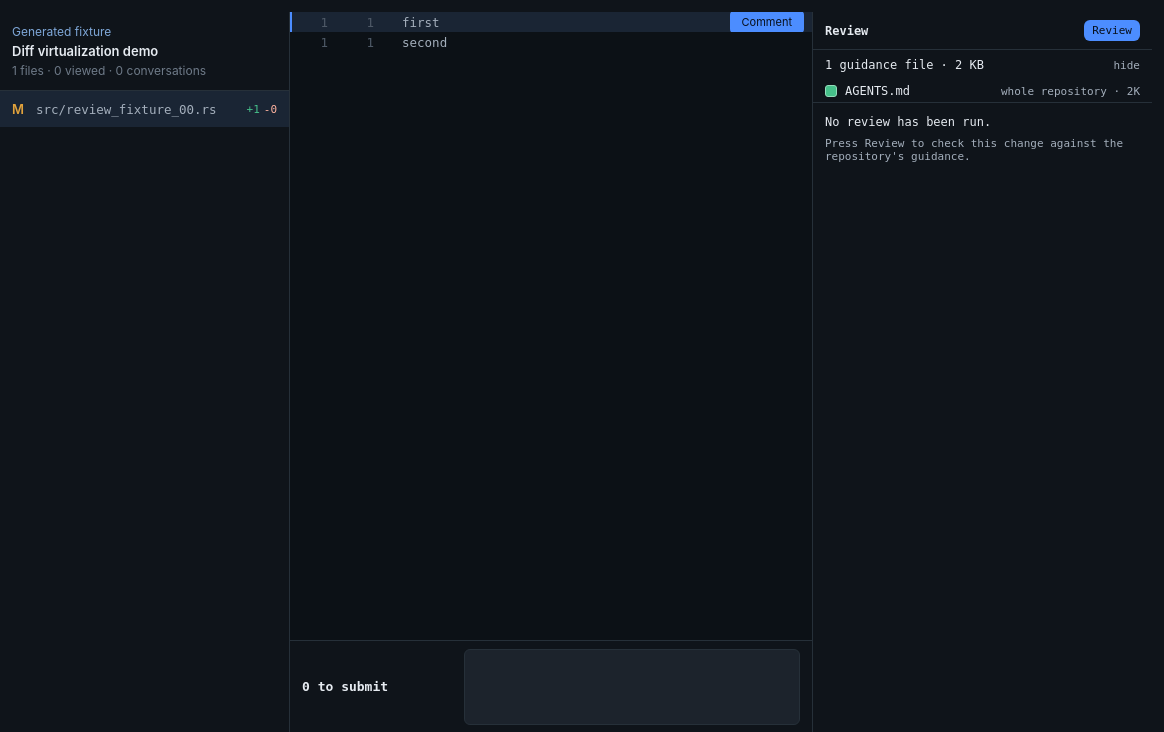
Test: the review panel in a Session › updates the summary line when a guidance file is turned off
expect the button "Review" is shown: met, box [1084, 20, 1140, 41]
Click the button "AGENTS.md whole repository · 2K" at (878, 91), box [813, 80, 1152, 102]
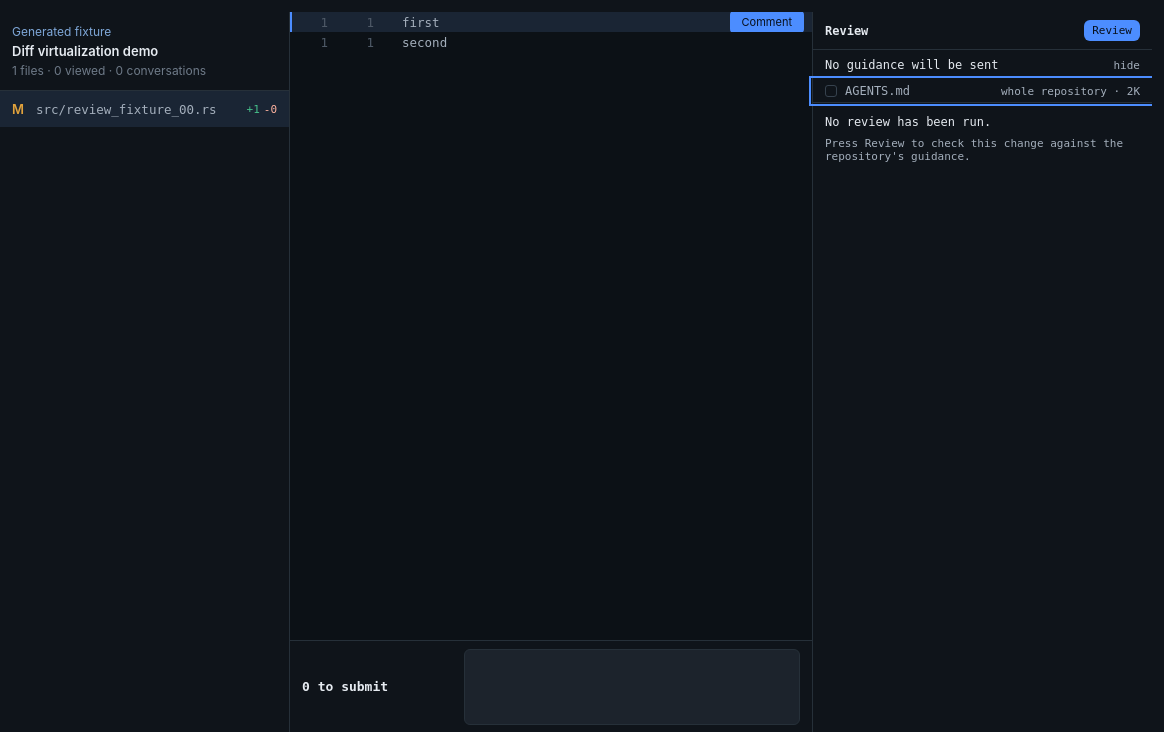
expect the text "No guidance will be sent" is shown: met, box [825, 58, 998, 72]
